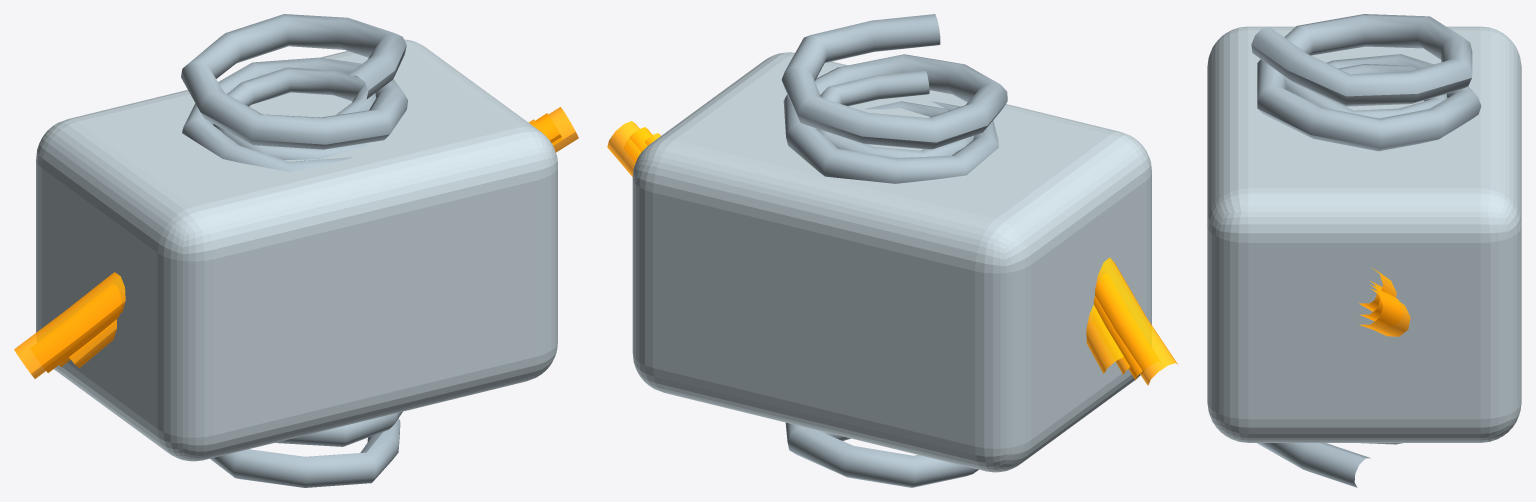
File: remaining_systems_11.glb
3 renders of one model, left to right at view 1: azimuth 30°, elevation 25°; view 2: azimuth 150°, elevation 25°; view 3: azimuth 270°, elevation 25°, orthographic.
Parts seen in each view (by area): view 1: asset_mesh__remaining_systems_1160__reference_body, asset_mesh__remaining_systems_1186__coil_spring, asset_mesh__remaining_systems_1169__fluid_path, asset_mesh__remaining_systems_1191__coil_spring, asset_mesh__remaining_systems_1175__fluid_path, asset_mesh__remaining_systems_1168__fluid_path; view 2: asset_mesh__remaining_systems_1160__reference_body, asset_mesh__remaining_systems_1186__coil_spring, asset_mesh__remaining_systems_1169__fluid_path, asset_mesh__remaining_systems_1191__coil_spring, asset_mesh__remaining_systems_1175__fluid_path, asset_mesh__remaining_systems_1168__fluid_path; view 3: asset_mesh__remaining_systems_1160__reference_body, asset_mesh__remaining_systems_1186__coil_spring, asset_mesh__remaining_systems_1191__coil_spring, asset_mesh__remaining_systems_1169__fluid_path.
Part boxes in pixels (left/top/right/bottom): asset_mesh__remaining_systems_1160__reference_body: left=36, top=39, right=557, bottom=461; asset_mesh__remaining_systems_1186__coil_spring: left=181, top=14, right=407, bottom=487; asset_mesh__remaining_systems_1169__fluid_path: left=14, top=107, right=578, bottom=378; asset_mesh__remaining_systems_1191__coil_spring: left=213, top=67, right=376, bottom=159; asset_mesh__remaining_systems_1175__fluid_path: left=69, top=319, right=116, bottom=368; asset_mesh__remaining_systems_1168__fluid_path: left=46, top=113, right=561, bottom=372; asset_mesh__remaining_systems_1160__reference_body: left=632, top=52, right=1151, bottom=472; asset_mesh__remaining_systems_1186__coil_spring: left=781, top=14, right=1007, bottom=487; asset_mesh__remaining_systems_1169__fluid_path: left=607, top=121, right=1177, bottom=385; asset_mesh__remaining_systems_1191__coil_spring: left=816, top=70, right=974, bottom=157; asset_mesh__remaining_systems_1175__fluid_path: left=1086, top=304, right=1123, bottom=373; asset_mesh__remaining_systems_1168__fluid_path: left=629, top=127, right=1142, bottom=380; asset_mesh__remaining_systems_1160__reference_body: left=1207, top=26, right=1521, bottom=442; asset_mesh__remaining_systems_1186__coil_spring: left=1251, top=14, right=1481, bottom=487; asset_mesh__remaining_systems_1191__coil_spring: left=1284, top=64, right=1447, bottom=118; asset_mesh__remaining_systems_1169__fluid_path: left=1359, top=288, right=1410, bottom=336.
Size of the model in its own units: 1.73 by 1.24 by 0.84.
